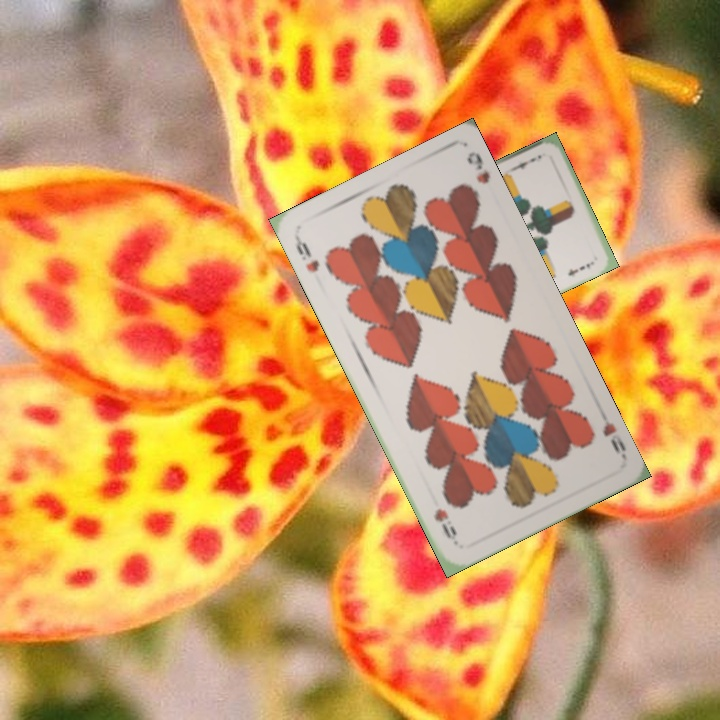E7: (510, 151, 544, 172)
H9: (595, 405, 629, 461), (291, 233, 322, 275)
